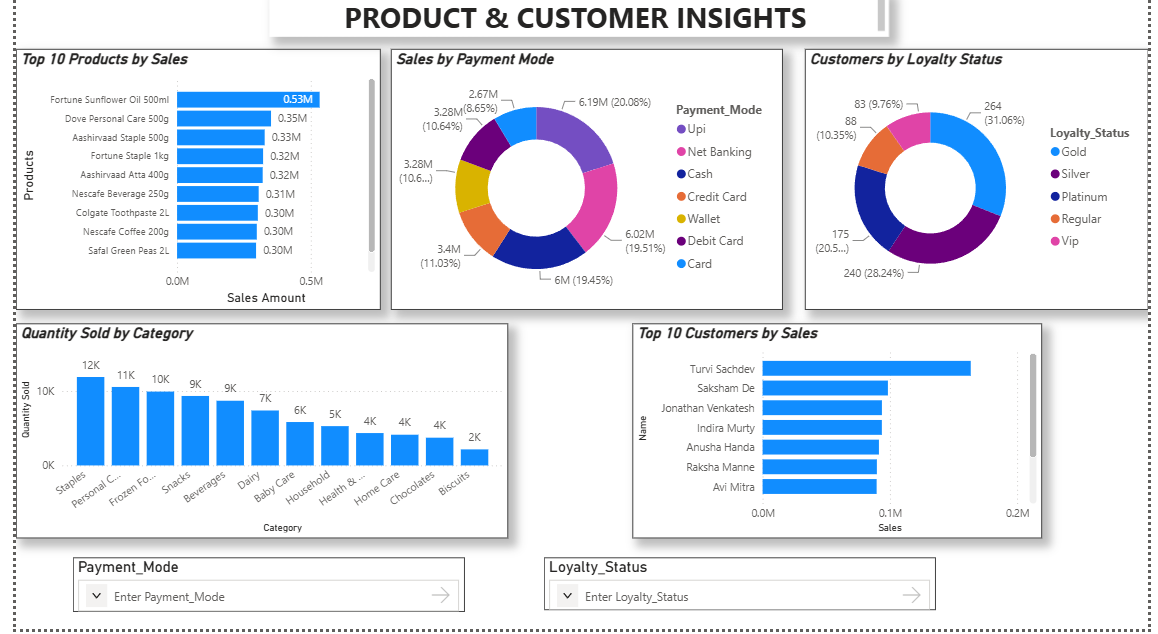

Layout of this report page (visuals, bound fields, positions):
{"tool":"powerbi","page":{"name":"PRODUCT & CUSTOMER INSIGHTS","canvas":[1280,720],"ordinal":1},"visuals":[{"type":"clusteredBarChart","title":"Top 10 Products by Sales","fields":{"Category":["dim_products.Product_Name"],"Y":["Sum(fact_sales.Sales_Amount)"]},"box":[0,64.4,411.9,294.9],"z":0},{"type":"textbox","box":[286.4,0,700,50.8],"z":1},{"type":"donutChart","title":"Sales by Payment Mode","fields":{"Category":["fact_sales.Payment_Mode"],"Y":["Sum(fact_sales.Sales_Amount)"]},"box":[423.7,64.4,442.4,294.9],"z":2},{"type":"donutChart","title":"Customers by Loyalty Status","fields":{"Category":["dim_customers.Loyalty_Status"],"Y":["CountNonNull(dim_customers.Customer_ID)"]},"box":[891.5,64.4,388.1,294.9],"z":3},{"type":"columnChart","title":" Quantity Sold by Category","fields":{"Category":["dim_products.Category"],"Y":["fact_sales.Total Quantity Sold"]},"box":[0,374.6,555.9,242.4],"z":4},{"type":"textSlicer","fields":{"Values":["fact_sales.Payment_Mode"]},"box":[64.4,639,442.4,61],"z":5},{"type":"textSlicer","fields":{"Values":["dim_customers.Loyalty_Status"]},"box":[596.6,639,442.4,59.3],"z":6},{"type":"barChart","title":"Top 10 Customers by Sales","fields":{"Category":["dim_customers.Customer_Name"],"Y":["Sum(fact_sales.Sales_Amount)"]},"box":[696.6,374.6,462.7,242.4],"z":7}]}

Visuals, with their boxes in screenshot pixels (x1, y1, x2, y2), scaled from the page's 1280x720 canvas onto the 1158x634 screenshot:
"Top 10 Products by Sales" clusteredBarChart: locate(0, 57, 373, 316)
textbox: locate(259, 0, 892, 45)
"Sales by Payment Mode" donutChart: locate(383, 57, 784, 316)
"Customers by Loyalty Status" donutChart: locate(807, 57, 1157, 316)
" Quantity Sold by Category" columnChart: locate(0, 330, 503, 543)
textSlicer - fact_sales.Payment_Mode: locate(58, 563, 458, 616)
textSlicer - dim_customers.Loyalty_Status: locate(540, 563, 940, 615)
"Top 10 Customers by Sales" barChart: locate(630, 330, 1049, 543)
